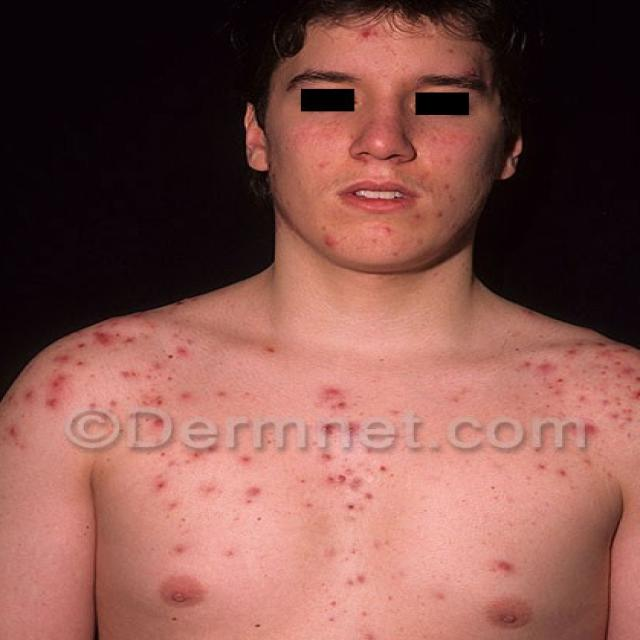Acne: (253, 377, 424, 534), (137, 393, 276, 559), (487, 326, 640, 457), (78, 309, 232, 390), (2, 362, 98, 485), (305, 224, 402, 292), (455, 526, 540, 594), (353, 22, 430, 79)
